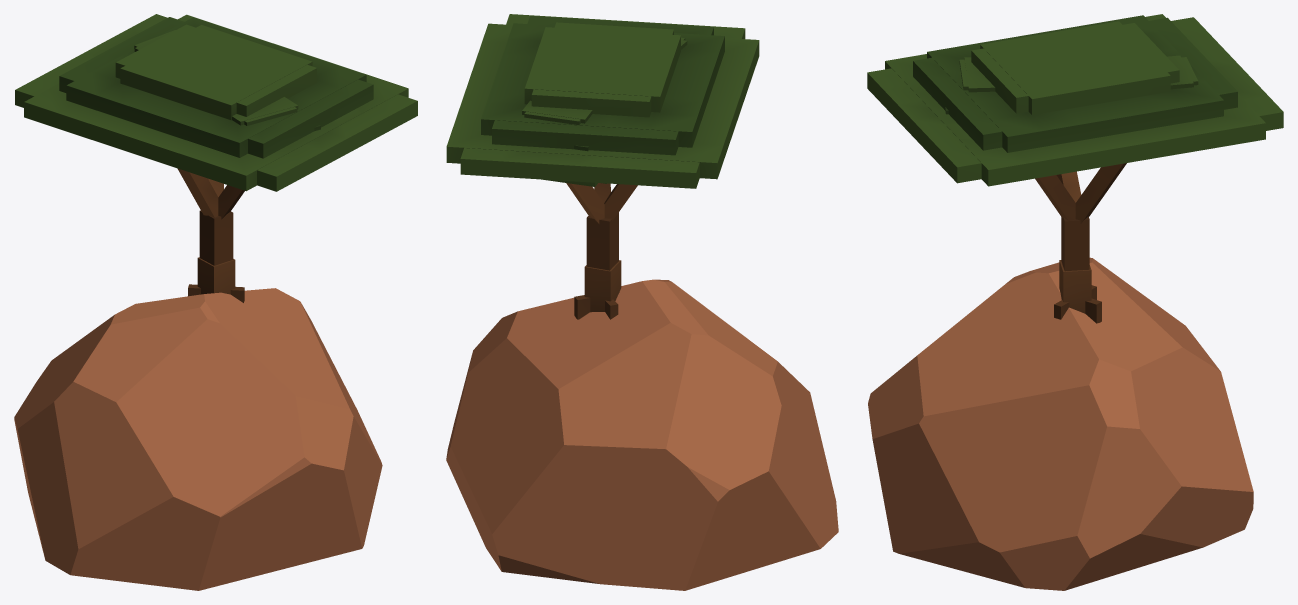
Rendered from AcaciaBoulder.fbx.
3 views of the same model, side by side, from view 1: azimuth 30°, elevation 25°; view 2: azimuth 150°, elevation 25°; view 3: azimuth 270°, elevation 25° (orthographic). The views are drawn at different scales.
Visible parts, largest first — view 1: AcaciaBoulder, AcaciaBoulder_Acacia; view 2: AcaciaBoulder, AcaciaBoulder_Acacia; view 3: AcaciaBoulder, AcaciaBoulder_Acacia.
Part boxes in pixels (<box>): AcaciaBoulder: <box>14,288,382,590</box>; AcaciaBoulder_Acacia: <box>15,14,417,302</box>; AcaciaBoulder: <box>446,279,838,590</box>; AcaciaBoulder_Acacia: <box>446,14,759,319</box>; AcaciaBoulder: <box>868,257,1253,590</box>; AcaciaBoulder_Acacia: <box>867,14,1283,323</box>.
Bounding box in the file's own units: 17.07 × 20.8 × 17.05.
